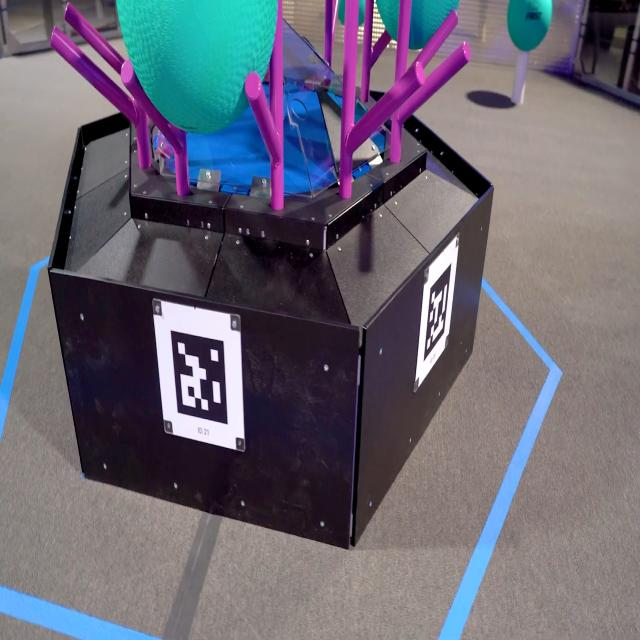Algae: (115, 0, 278, 135), (376, 0, 460, 50), (506, 0, 553, 52), (336, 0, 367, 27)
Coral: (511, 49, 530, 104)
